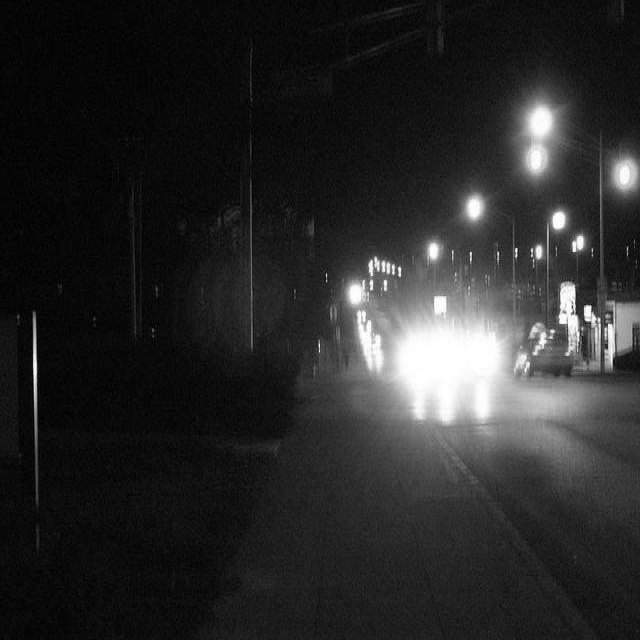vehicle: (511, 330, 575, 380), (364, 328, 382, 350), (355, 308, 375, 323)
